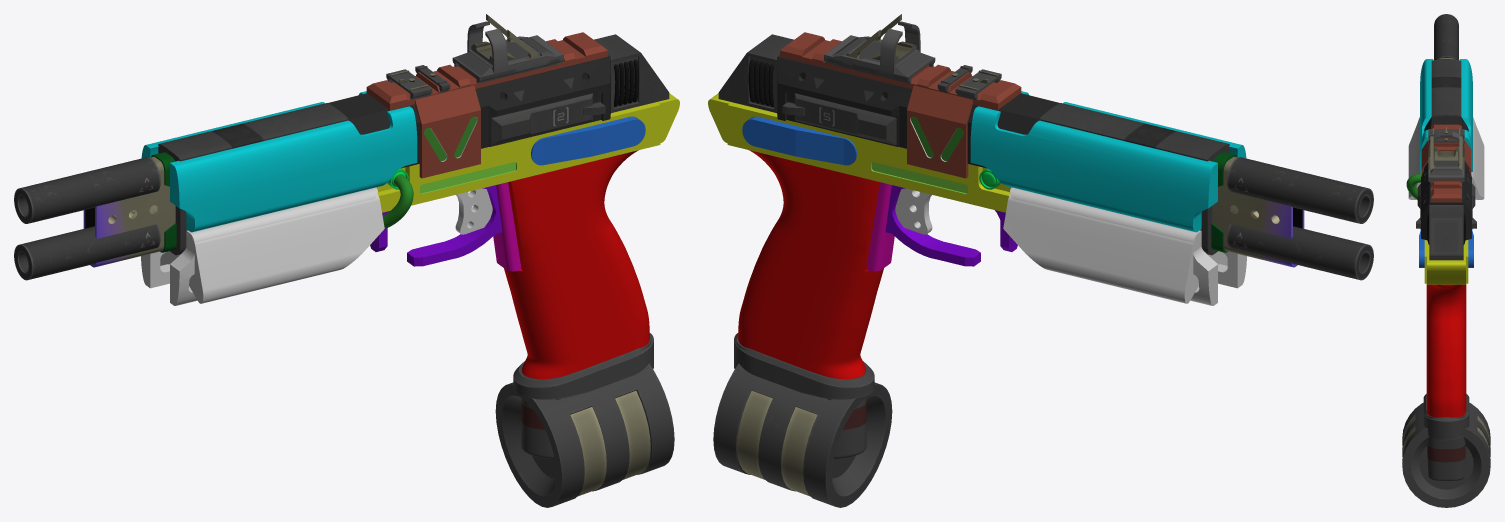
File: Pistol_Final.fbx
3 renders of one model, left to right at view 1: azimuth 30°, elevation 25°; view 2: azimuth 150°, elevation 25°; view 3: azimuth 270°, elevation 25°, orthographic. The views are drawn at different scales.
Parts seen in each view (by area): view 1: Gun, Reciever, Mag_Drum, Burst_1, Suppresor, Burst_2, Compressor2, Mag_Basic, Scope3, Scope2, Scope1, Trigger (+2 smaller); view 2: Gun, Reciever, Mag_Drum, Burst_1, Suppresor, Burst_2, Compressor2, Mag_Basic, Scope3, Scope2, Scope1, Trigger (+1 smaller); view 3: Gun, Reciever, Mag_Drum, Mag_Long, Burst_1, Mag_Basic, Suppresor, Scope3, Scope2, Scope1, Auto.
Part boxes in pixels (<box>): Gun: <box>141,32,679,379</box>; Reciever: <box>158,34,669,255</box>; Mag_Drum: <box>495,361,674,507</box>; Burst_1: <box>160,194,384,303</box>; Suppresor: <box>14,157,160,280</box>; Burst_2: <box>141,187,377,305</box>; Compressor2: <box>83,156,175,267</box>; Mag_Basic: <box>513,333,653,399</box>; Scope3: <box>467,21,563,77</box>; Scope2: <box>395,37,559,97</box>; Scope1: <box>386,14,560,99</box>; Trigger: <box>455,188,492,234</box>; Gun: <box>708,32,1246,379</box>; Reciever: <box>718,34,1229,255</box>; Mag_Drum: <box>713,361,892,507</box>; Burst_1: <box>1003,194,1227,303</box>; Suppresor: <box>1227,157,1373,280</box>; Burst_2: <box>1010,187,1246,305</box>; Compressor2: <box>1212,156,1304,267</box>; Mag_Basic: <box>734,333,874,399</box>; Scope3: <box>824,21,920,78</box>; Scope2: <box>827,37,988,95</box>; Scope1: <box>827,14,1001,99</box>; Trigger: <box>895,188,932,234</box>; Gun: <box>1419,59,1473,417</box>; Reciever: <box>1416,59,1476,260</box>; Mag_Drum: <box>1402,402,1490,507</box>; Mag_Long: <box>1426,414,1466,480</box>; Burst_1: <box>1408,117,1484,199</box>; Mag_Basic: <box>1423,394,1469,440</box>; Suppresor: <box>1434,14,1458,60</box>; Scope3: <box>1428,132,1464,183</box>; Scope2: <box>1428,131,1464,175</box>; Scope1: <box>1428,126,1464,169</box>; Auto: <box>1406,173,1421,199</box>.
Bounding box in the file's own units: 3213 × 2340 × 566.
